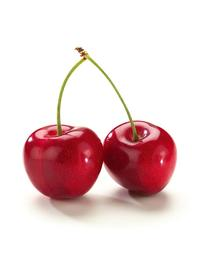cherry: (23, 125, 105, 201), (103, 120, 177, 196)
